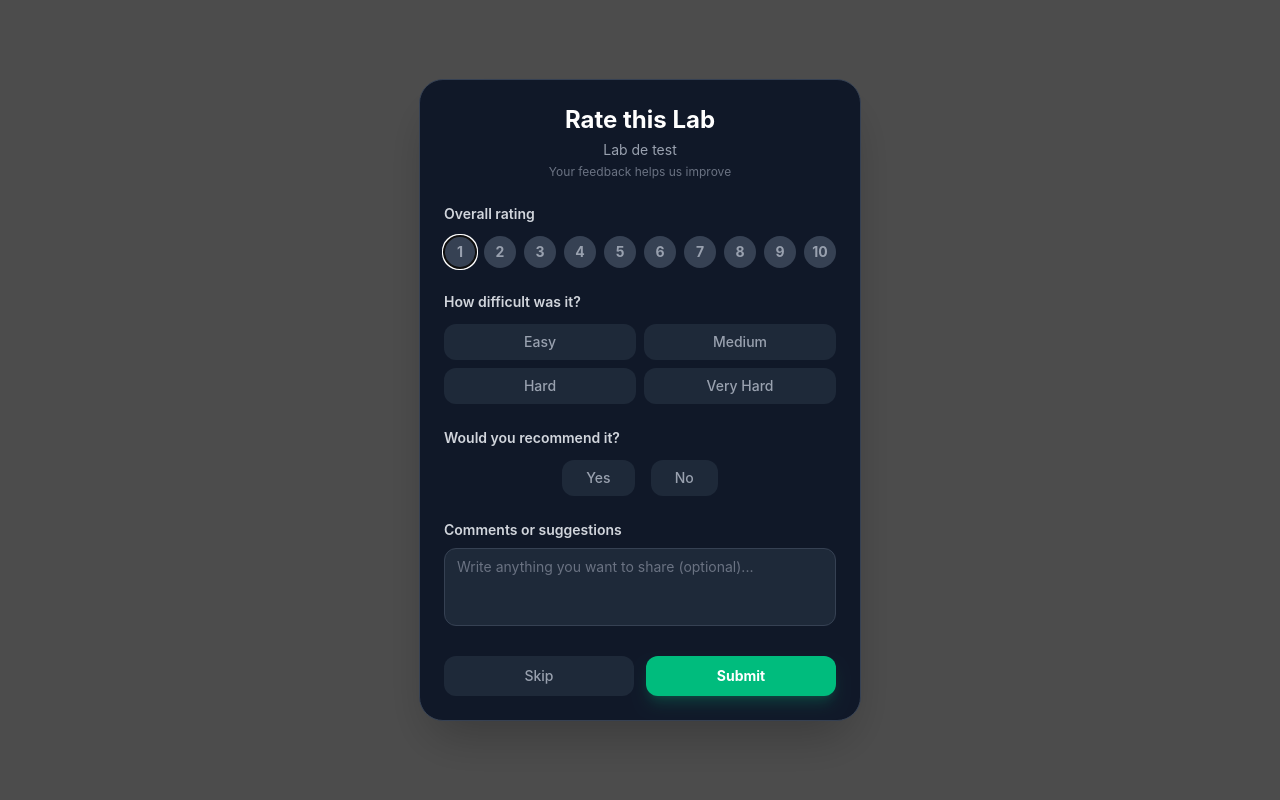
Test: SurveyModal › Enviar marca enviada y muestra el agradecimiento (sin Escape: es el cierre)
This screenshot has width=1280, height=800.
Click the button "Submit" at point(741, 676), box [646,656,836,696]
Wait 1500 ms
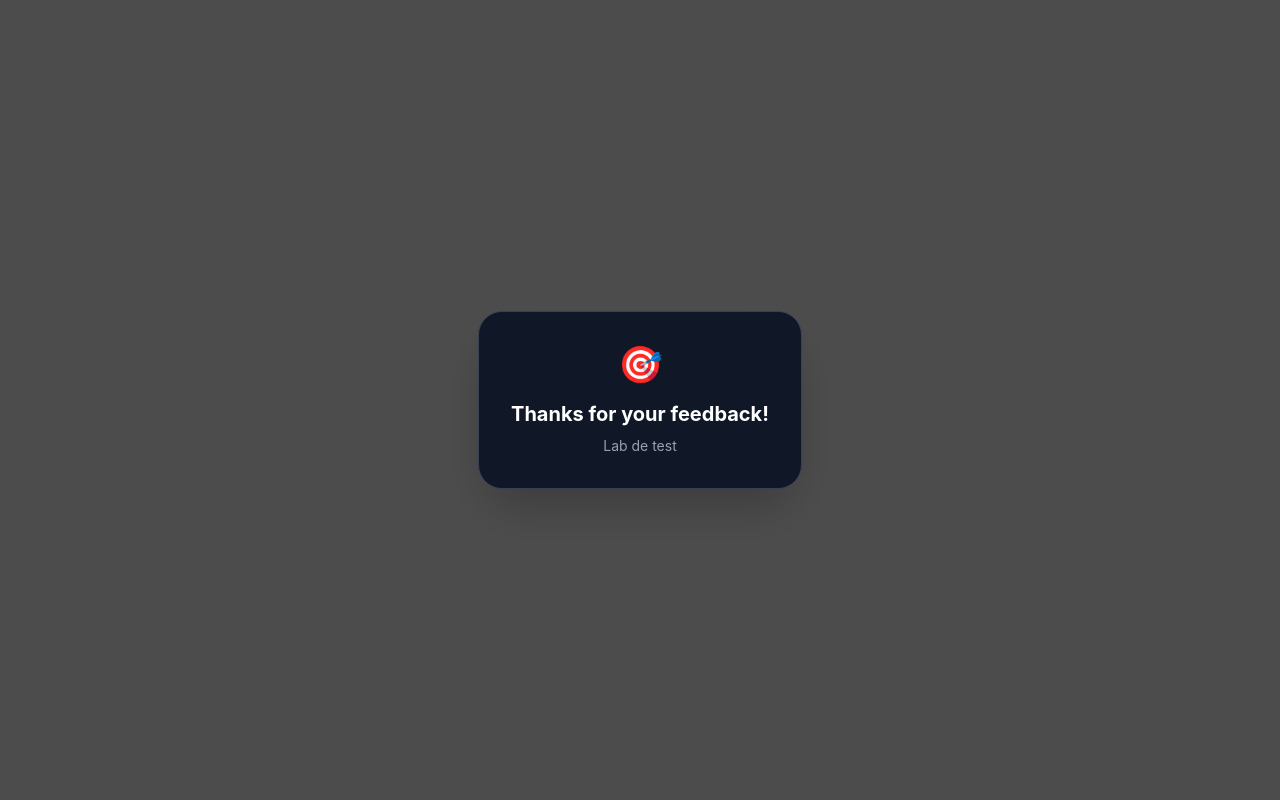
Result: the heading "Thanks for your feedback!" is shown at [511,400,769,428]
